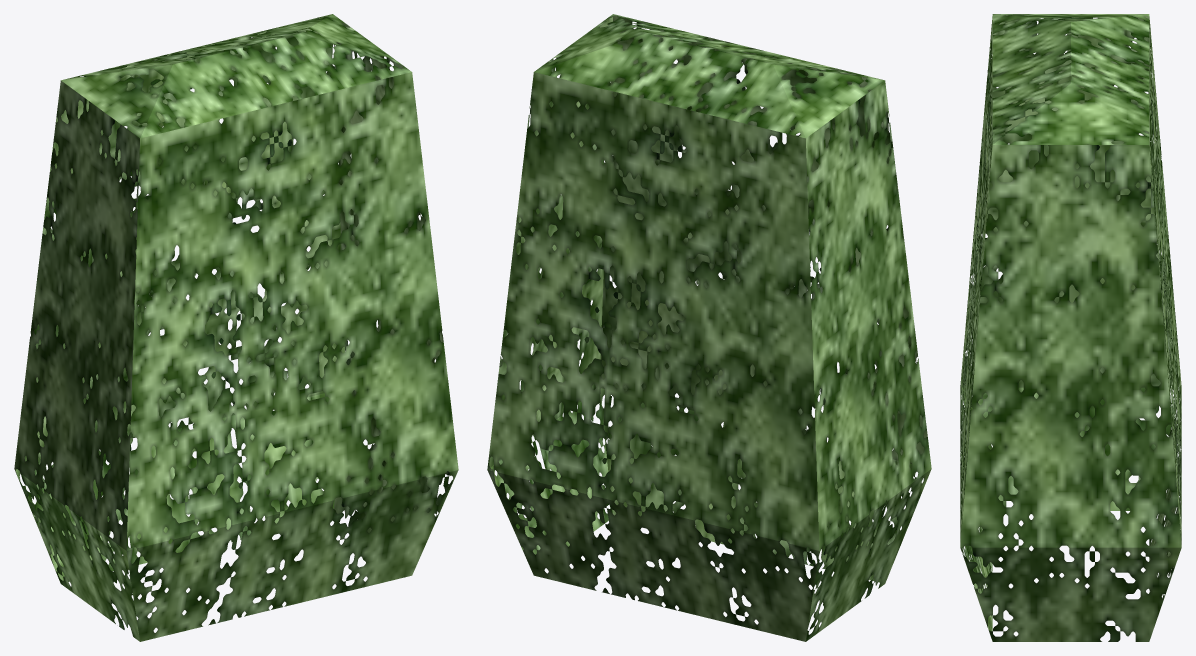
Rendered from bush_tall_half_single_summer.fbx.
3 views of the same model, side by side, from view 1: azimuth 30°, elevation 25°; view 2: azimuth 150°, elevation 25°; view 3: azimuth 270°, elevation 25° (orthographic).
Visible parts, largest first — view 1: bush_tall_half_single_summer; view 2: bush_tall_half_single_summer; view 3: bush_tall_half_single_summer.
Boxes of the visible parts, box(x1,y1,x2,y2) form: bush_tall_half_single_summer: box(14, 14, 458, 641); bush_tall_half_single_summer: box(487, 14, 931, 641); bush_tall_half_single_summer: box(960, 14, 1181, 641).
Bounding box in the file's own units: 123 × 188 × 71.91.
1 material, 1 textured.
